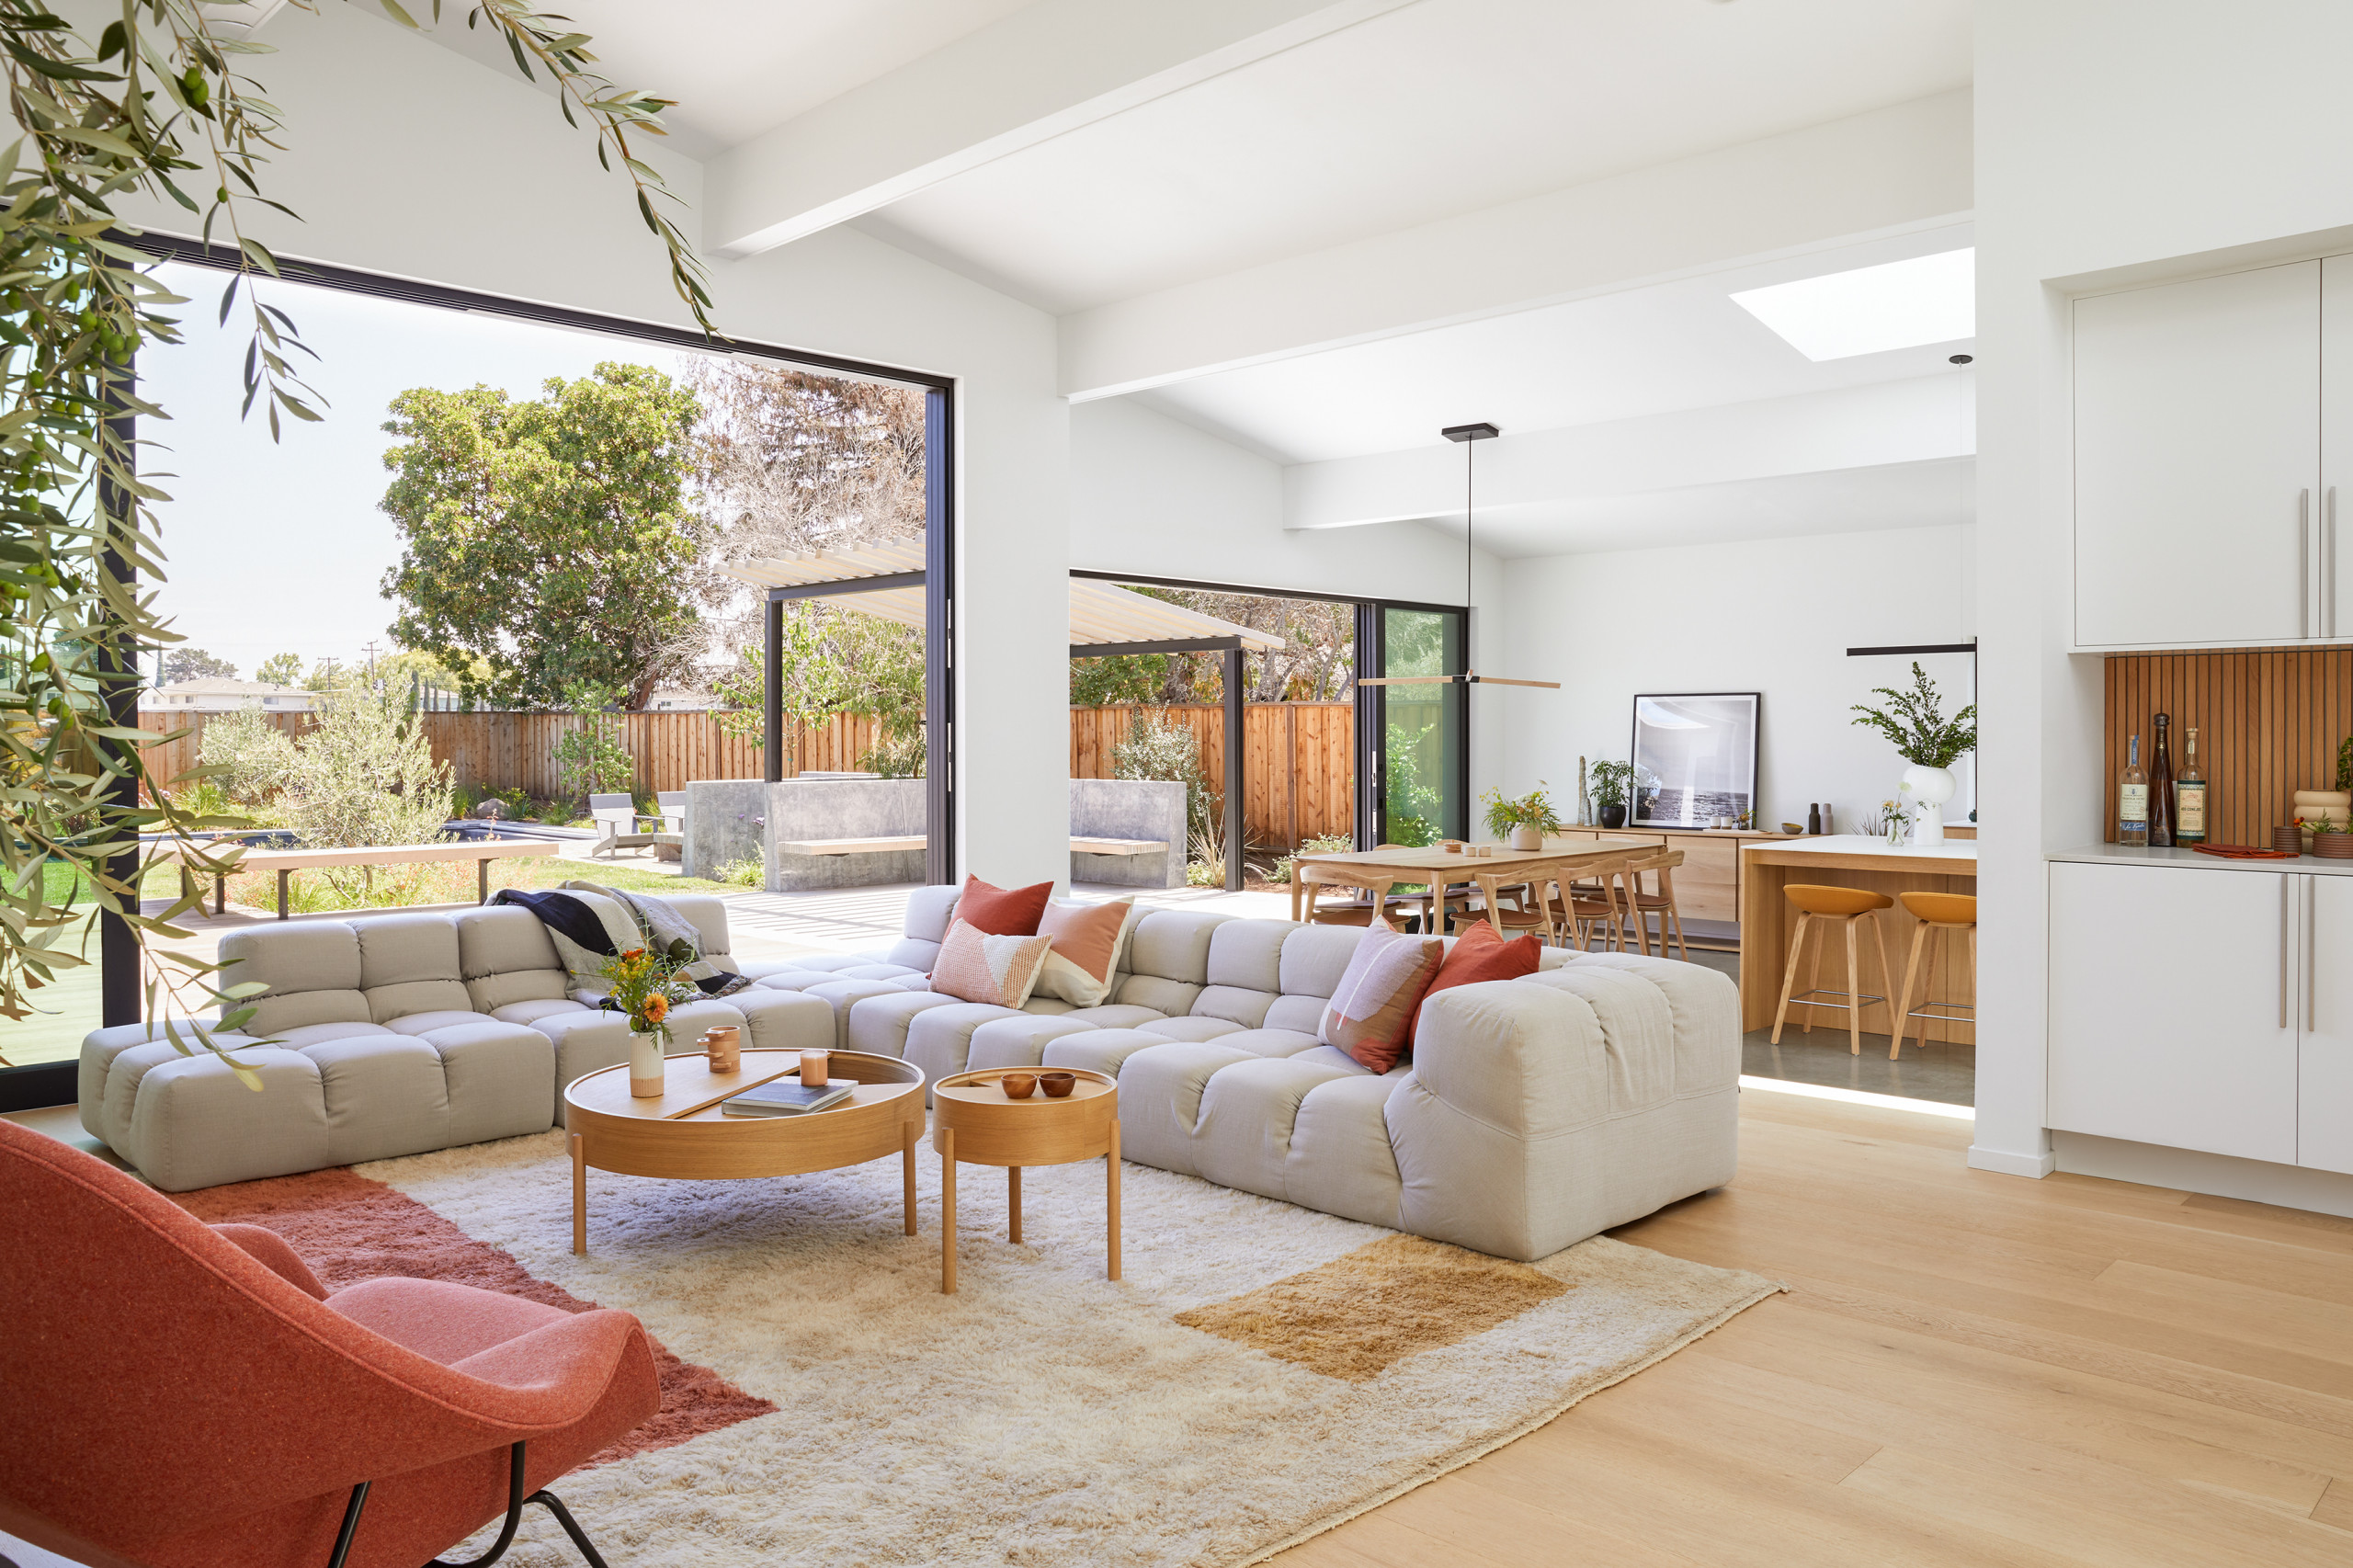chair: (0, 1099, 668, 1568), (1737, 814, 1986, 1073), (1274, 833, 1693, 955)
flower vase: (600, 913, 681, 1102), (1485, 789, 1566, 854)
small plant: (1856, 654, 1975, 808)
sofa: (841, 873, 1746, 1267), (75, 884, 841, 1199)
table: (558, 1038, 927, 1263), (927, 1059, 1132, 1300)
